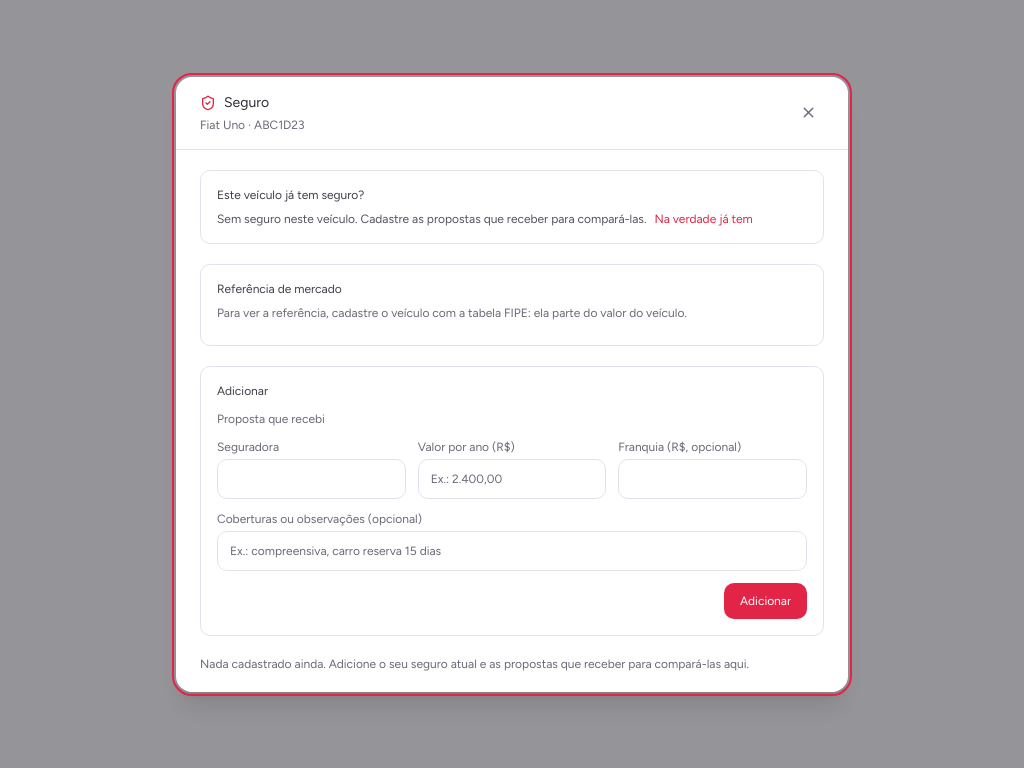
it: SegurosModal: este veículo já tem seguro? › quem respondeu Não pode mudar de ideia
The width and height of the screenshot is (1024, 768).
Click the button "Na verdade já tem" at (704, 218), box [654,210,753,226]
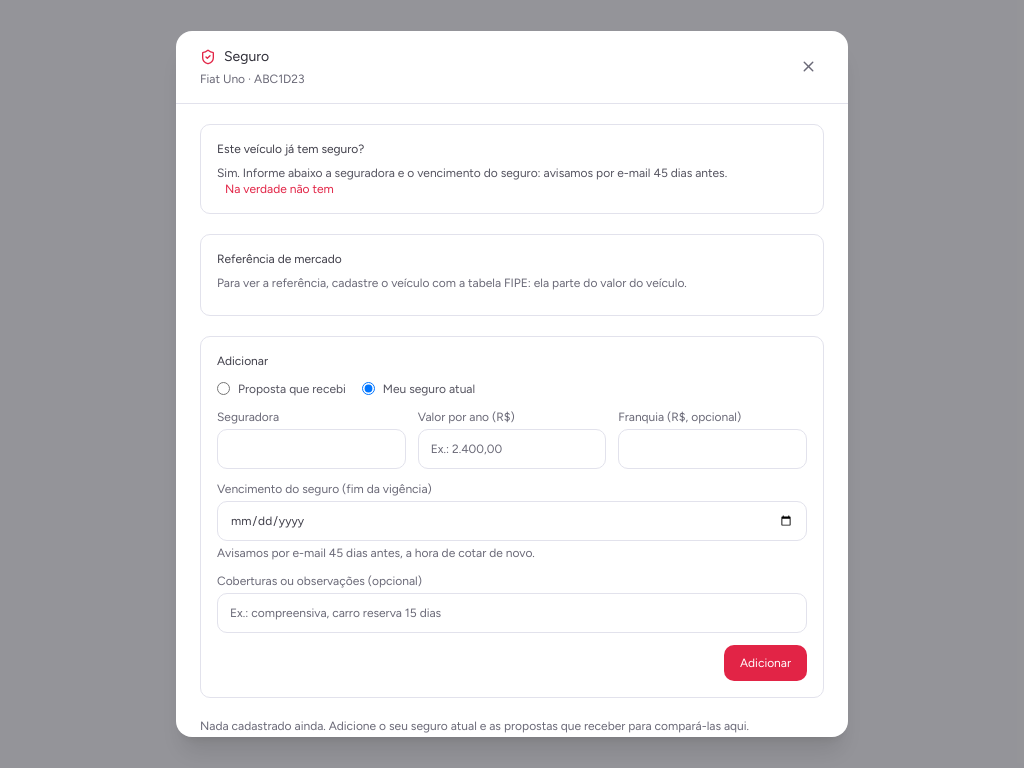
Now the radio button labelled "Meu seguro atual" is shown, box [362,382,375,395]
